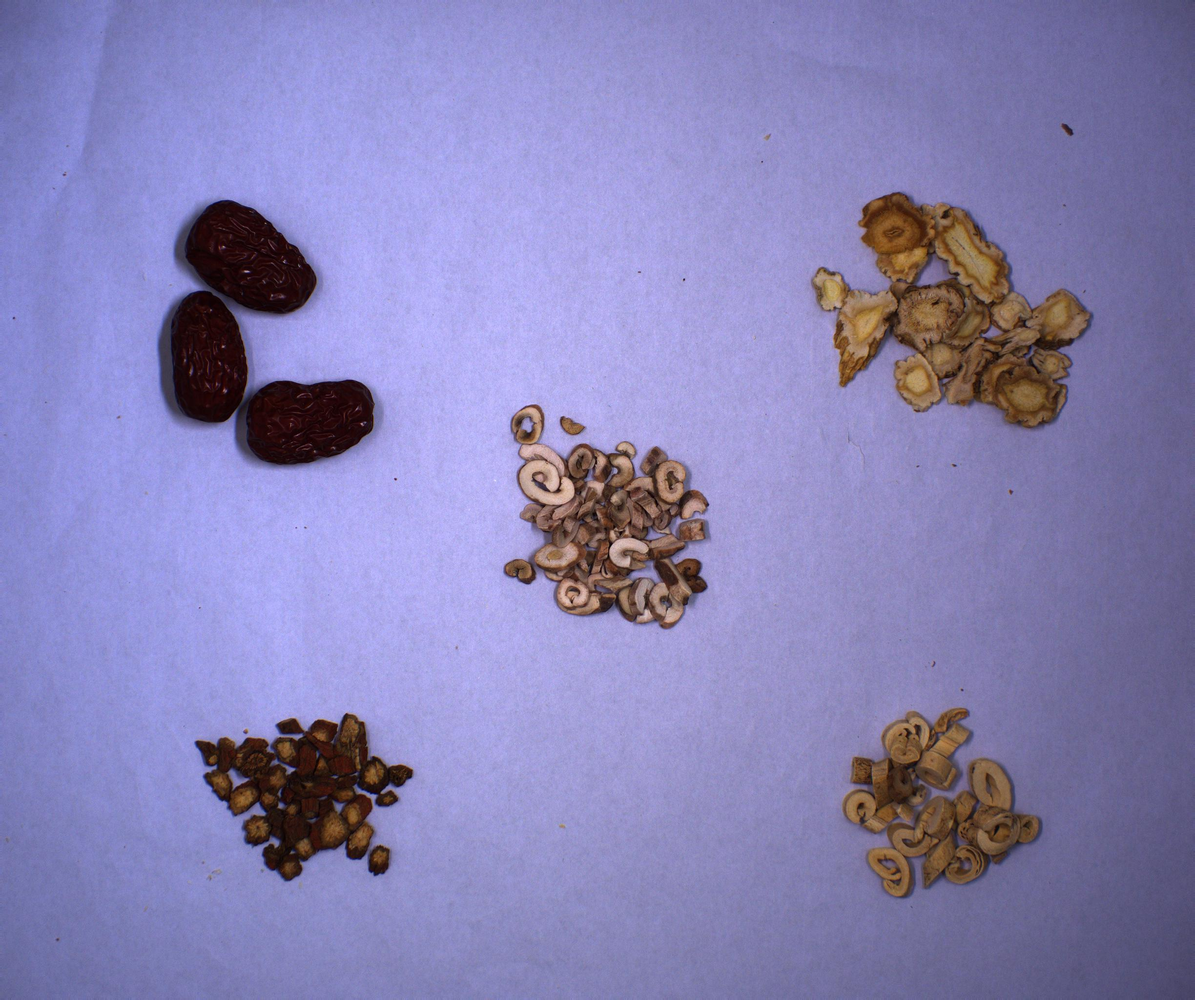baixianpi: (843, 708, 1041, 899)
danshen: (194, 712, 413, 880)
dazao: (170, 201, 372, 465)
jiegeng: (813, 192, 1093, 428)
mudanpi: (505, 405, 708, 630)
